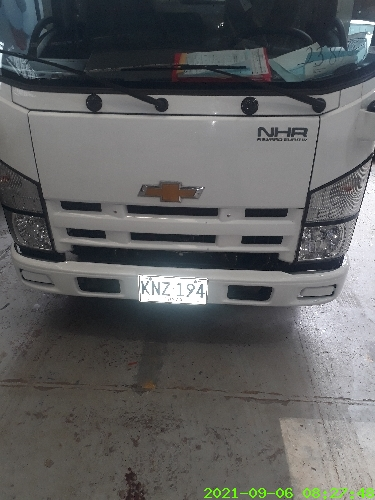number_plate: (138, 275, 209, 304)
